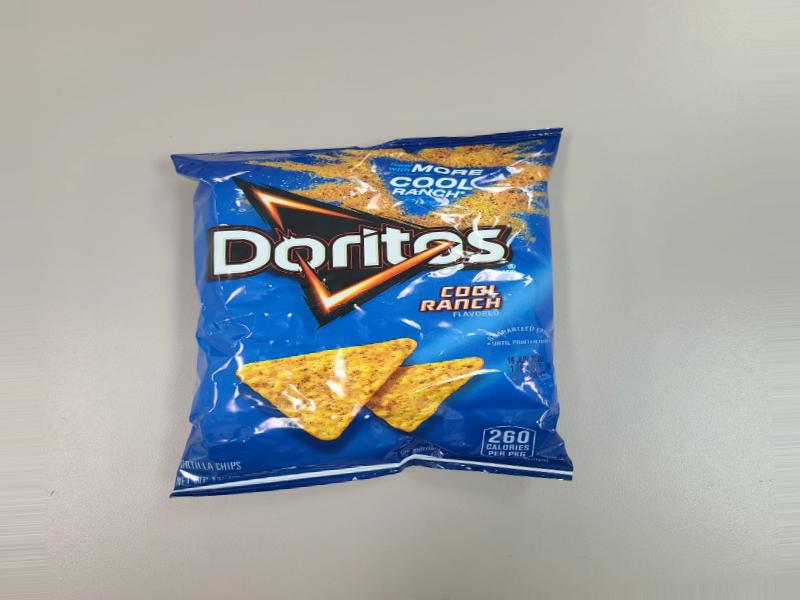doritos: (179, 97, 554, 512)
